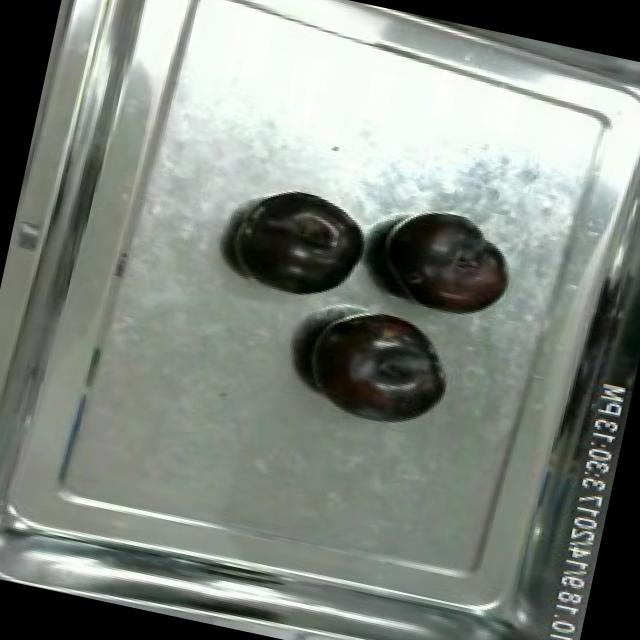Fruit: (292, 296, 460, 437), (364, 197, 526, 330), (222, 179, 374, 311)
